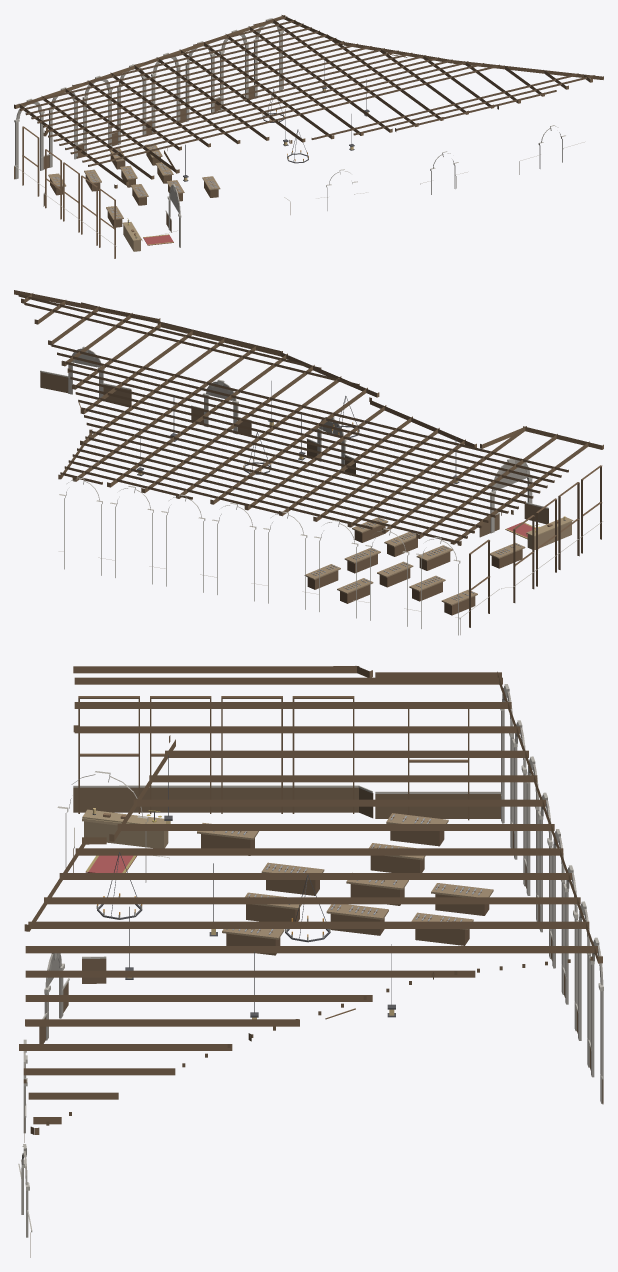
Rendered from interior_w01.glb.
The picture shows the model from 3 angles, top to bottom: view 1: azimuth 30°, elevation 25°; view 2: azimuth 150°, elevation 25°; view 3: azimuth 270°, elevation 25°; orthographic projection. The views are drawn at different scales.
Parts seen in each view (by area): view 1: Interior_W01_mesh; view 2: Interior_W01_mesh; view 3: Interior_W01_mesh.
Boxes of the visible parts, x1,y1,x2,y2 form: Interior_W01_mesh: (14,15,603,258); Interior_W01_mesh: (14,290,603,635); Interior_W01_mesh: (18,666,603,1257).
Bounding box in the file's own units: 44.92 × 6.72 × 24.14.
